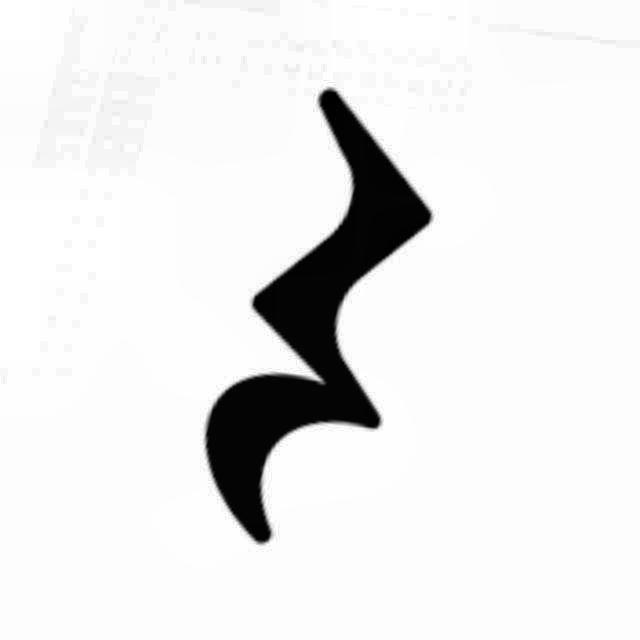Quarter-rest: (185, 70, 448, 552)
